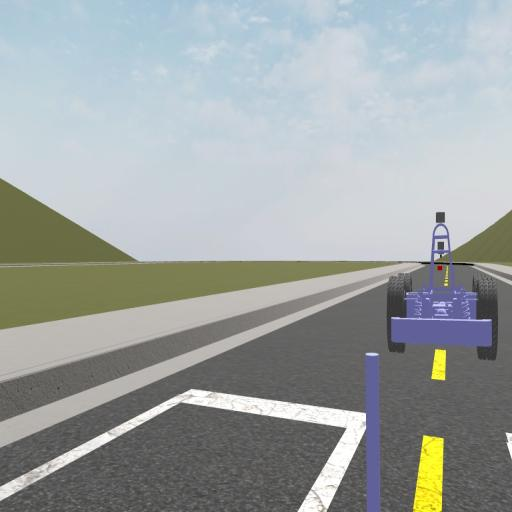ERP-42: (386, 211, 497, 360)
